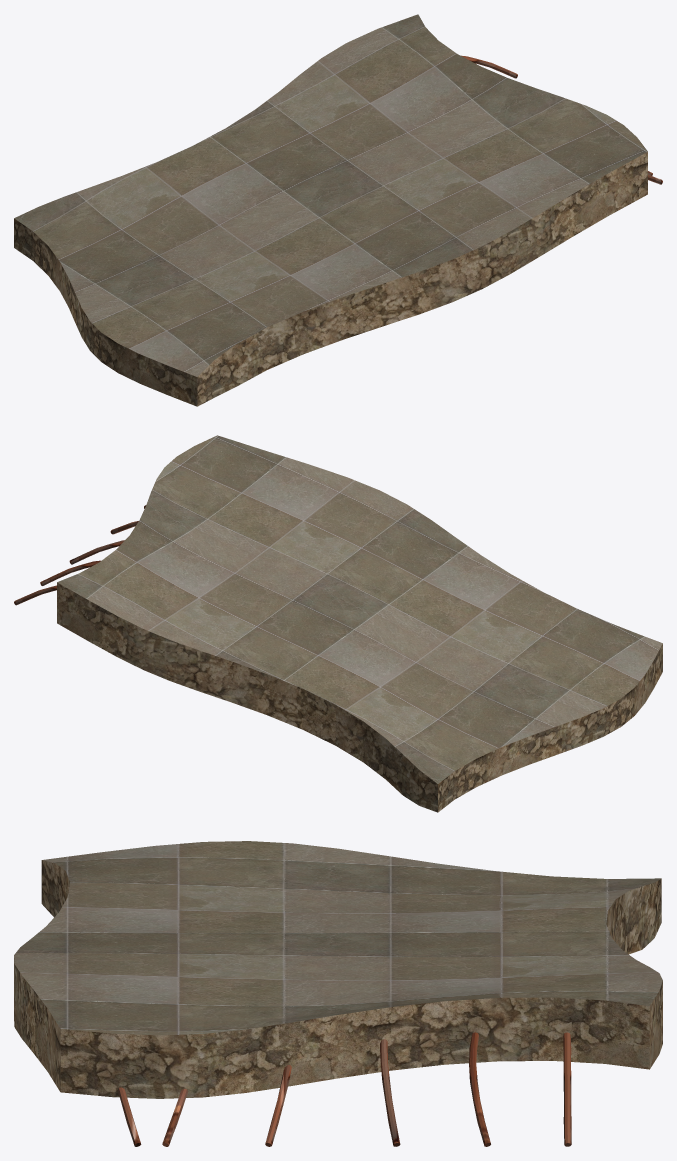
The model's file is Wreckage_CollapsedSlab.fbx.
The picture shows the model from 3 angles, top to bottom: view 1: azimuth 30°, elevation 25°; view 2: azimuth 150°, elevation 25°; view 3: azimuth 270°, elevation 25°; orthographic projection. The views are drawn at different scales.
Visible parts, largest first — view 1: Wreckage_CollapsedSlab; view 2: Wreckage_CollapsedSlab; view 3: Wreckage_CollapsedSlab.
Boxes of the visible parts, x1,y1,x2,y2 form: Wreckage_CollapsedSlab: (14, 14, 662, 406); Wreckage_CollapsedSlab: (14, 435, 662, 812); Wreckage_CollapsedSlab: (14, 841, 662, 1146).
Size of the model in its own units: 3.33 by 0.8456 by 2.41.
4 materials, 4 textured.
